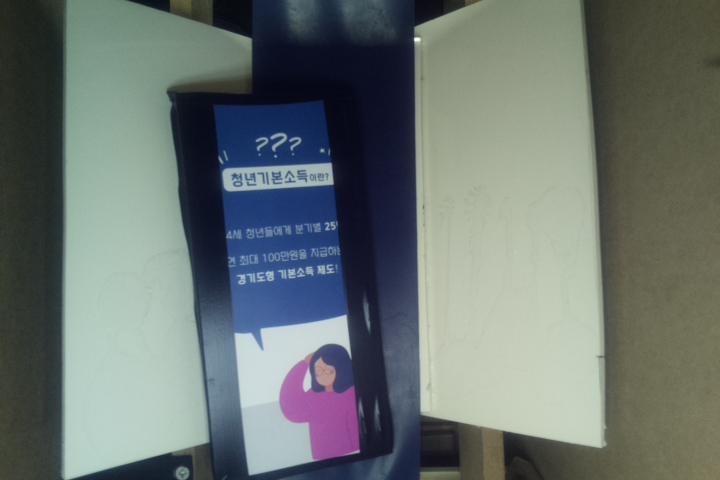book: (164, 89, 394, 480)
